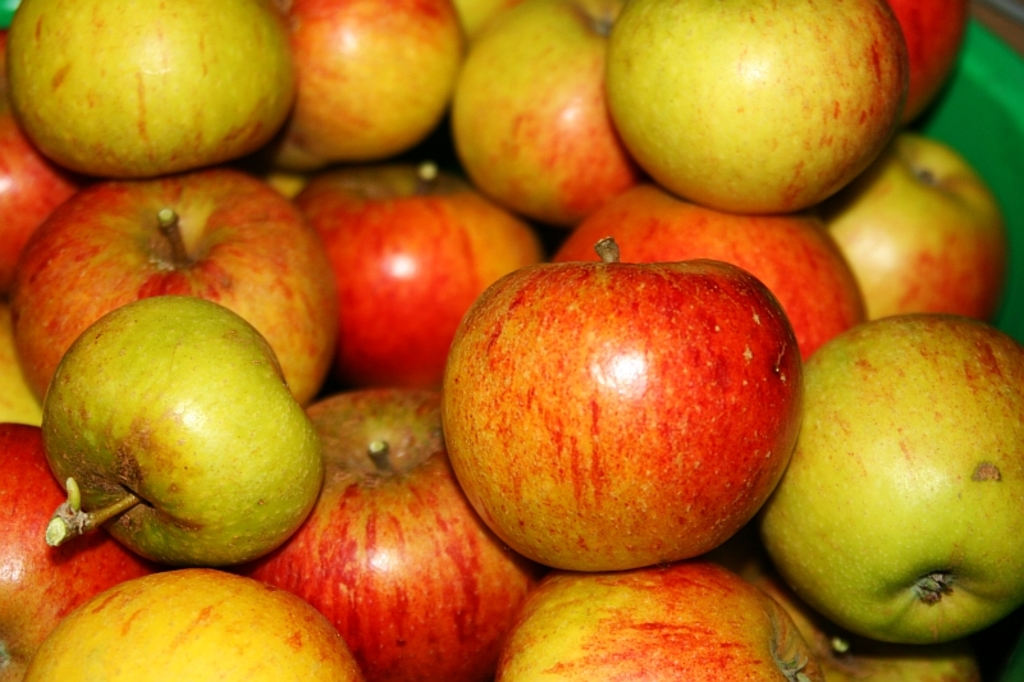Apple: (0, 0, 1022, 680), (442, 231, 815, 578)
